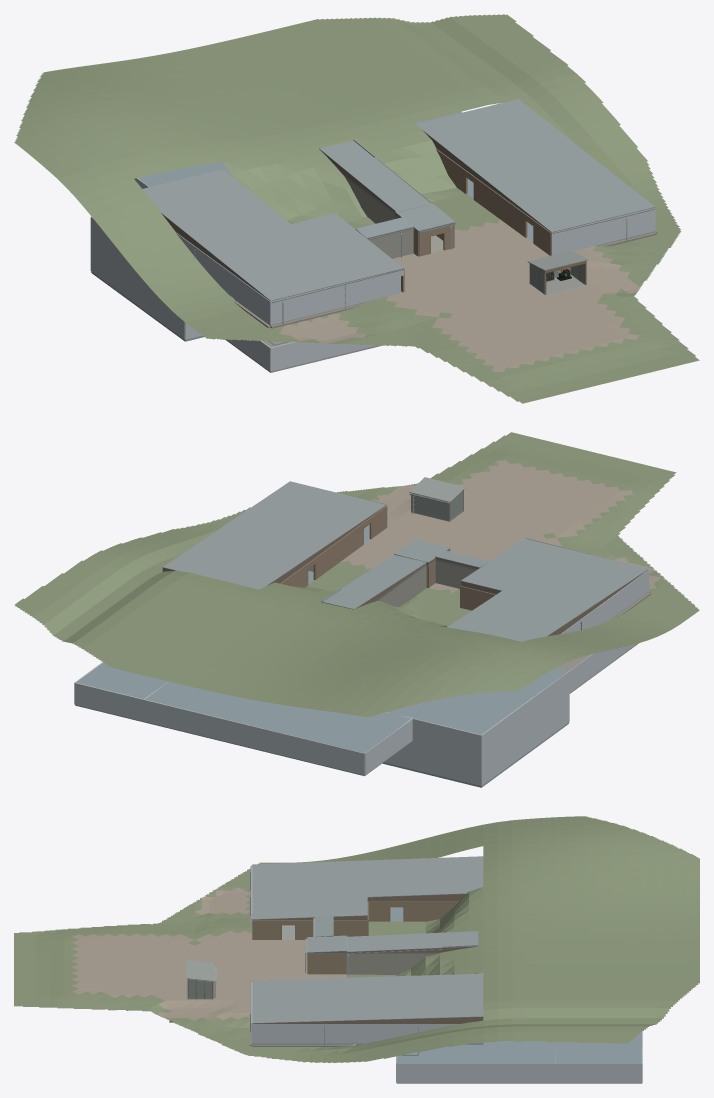
Rendered from mine-drainage.glb.
3 views of the same model, one above another, from view 1: azimuth 30°, elevation 25°; view 2: azimuth 150°, elevation 25°; view 3: azimuth 270°, elevation 25° (orthographic). The views are drawn at different scales.
Parts seen in each view (by area): view 1: WLD-05 runoff saved ground, Mine runoff crew pitched skin, Mine runoff assay pitched skin, Mine runoff wash pitched skin, Mine runoff stores pitched skin, Flat route shell Wall shack S, Mine runoff haul pitched skin, Wall lower W, Wall assay S, Wall vent S, Wall shack W, Mine assay yard door west or north pier region0 (+8 smaller); view 2: WLD-05 runoff saved ground, Mine runoff crew pitched skin, Ceiling cap cross, Mine runoff assay pitched skin, Mine runoff wash pitched skin, Wall cross N, Ceiling cap ore-west, Mine runoff stores pitched skin, Wall lower W, Wall lower N, Mine runoff haul pitched skin, Wall ore-west W (+13 smaller); view 3: WLD-05 runoff saved ground, Mine runoff crew pitched skin, Mine runoff wash pitched skin, Mine runoff assay pitched skin, Mine runoff stores pitched skin, Wall ore-east E, Ceiling cap ore-east, Wall assay E, Mine runoff haul pitched skin, Ceiling cap lift, Wall lift E, Mine haul east retaining wall region0 (+11 smaller).
Boxes of the visible parts, bbox=[...] form: WLD-05 runoff saved ground: bbox=[14, 14, 699, 403]; Mine runoff crew pitched skin: bbox=[202, 213, 403, 300]; Mine runoff assay pitched skin: bbox=[483, 153, 654, 232]; Mine runoff wash pitched skin: bbox=[416, 99, 586, 177]; Mine runoff stores pitched skin: bbox=[142, 169, 290, 245]; Flat route shell Wall shack S: bbox=[270, 269, 403, 324]; Mine runoff haul pitched skin: bbox=[319, 140, 430, 211]; Wall lower W: bbox=[90, 240, 185, 339]; Wall assay S: bbox=[551, 208, 655, 255]; Wall vent S: bbox=[270, 341, 375, 371]; Wall shack W: bbox=[201, 251, 270, 324]; Mine assay yard door west or north pier region0: bbox=[482, 183, 525, 236]; WLD-05 runoff saved ground: bbox=[14, 432, 699, 717]; Mine runoff crew pitched skin: bbox=[461, 538, 648, 610]; Ceiling cap cross: bbox=[145, 681, 411, 753]; Mine runoff assay pitched skin: bbox=[226, 481, 386, 547]; Mine runoff wash pitched skin: bbox=[162, 524, 322, 589]; Wall cross N: bbox=[143, 699, 364, 775]; Ceiling cap ore-west: bbox=[388, 668, 568, 734]; Mine runoff stores pitched skin: bbox=[447, 591, 584, 641]; Wall lower W: bbox=[481, 693, 569, 785]; Wall lower N: bbox=[384, 740, 481, 785]; Mine runoff haul pitched skin: bbox=[321, 555, 426, 609]; Wall ore-west W: bbox=[481, 671, 569, 756]; WLD-05 runoff saved ground: bbox=[14, 816, 699, 1062]; Mine runoff crew pitched skin: bbox=[252, 860, 367, 919]; Mine runoff wash pitched skin: bbox=[367, 973, 483, 1020]; Mine runoff assay pitched skin: bbox=[252, 977, 367, 1023]; Mine runoff stores pitched skin: bbox=[367, 856, 483, 897]; Wall ore-east E: bbox=[396, 1063, 555, 1082]; Ceiling cap ore-east: bbox=[396, 1040, 555, 1062]; Wall assay E: bbox=[252, 1024, 367, 1043]; Mine runoff haul pitched skin: bbox=[347, 931, 478, 952]; Ceiling cap lift: bbox=[555, 1032, 642, 1062]; Wall lift E: bbox=[555, 1063, 642, 1082]; Mine haul east retaining wall region0: bbox=[346, 954, 435, 974].
Bounding box in the file's own units: 70 × 17.89 × 95.
Materials: 77 (40 with a texture image).
